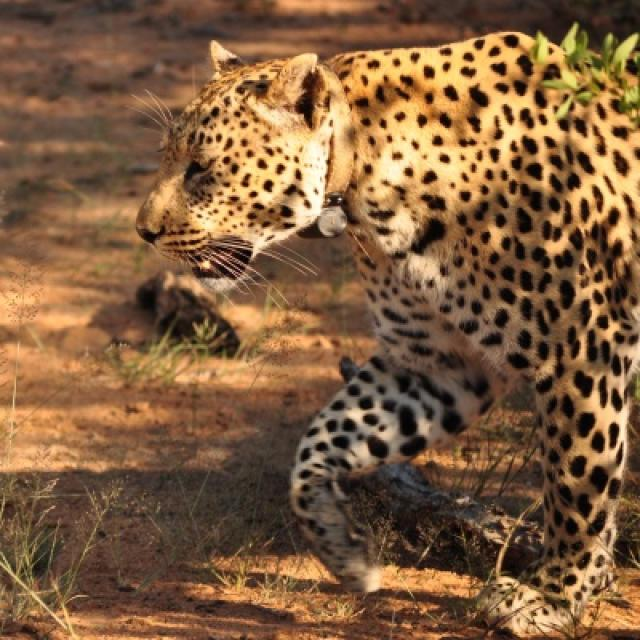Cheetah: (142, 27, 638, 636)
